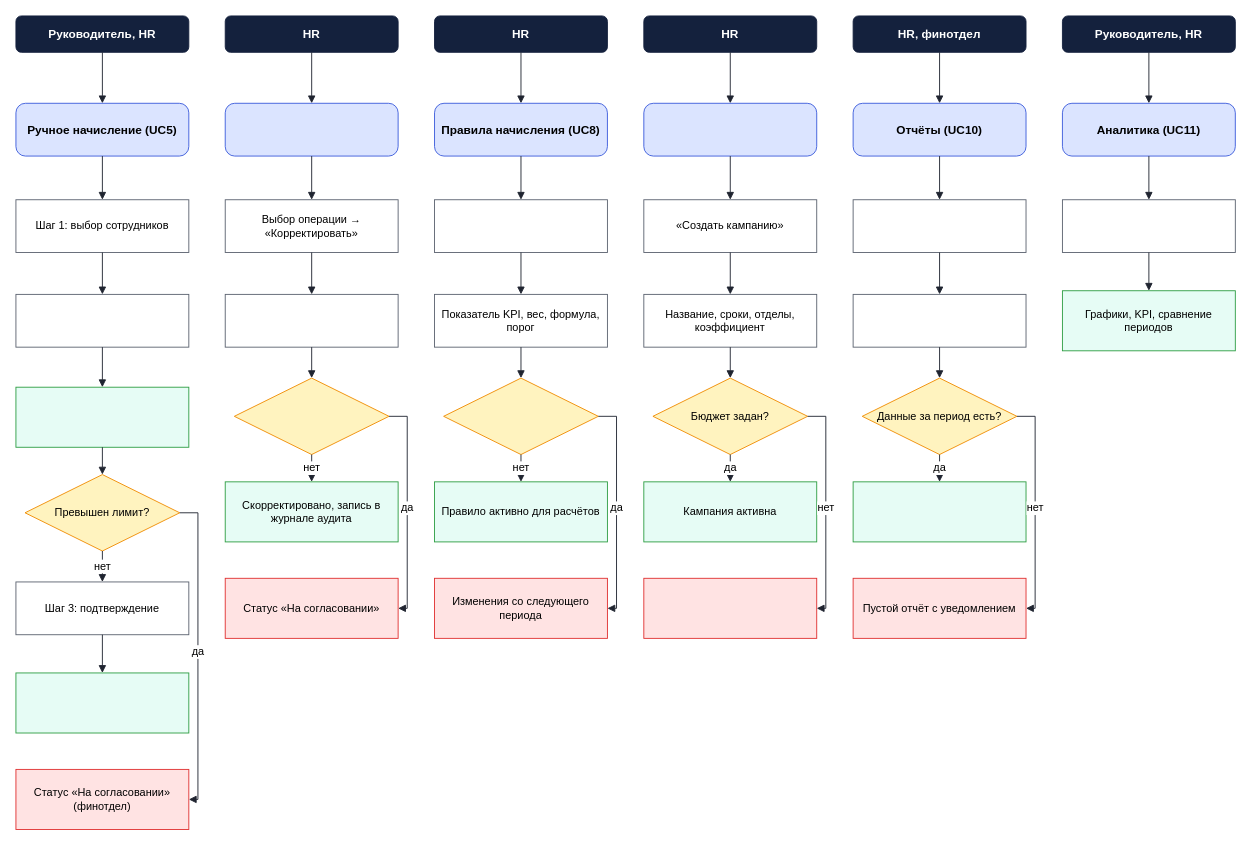
This 1251x845 diagram has some shape labels left out. The centre of each missing label's shape, as x and y in pixels:
"«Создать» / «Изменить»" belongs at (x=520, y=226).
"«Сформировать»" belongs at (x=939, y=320).
"Баланс станет < 0?" belongs at (x=311, y=416).
"Бонусные кампании (UC9)" belongs at (x=730, y=129).
"Выбор метрик, периода, отдела" belongs at (x=1148, y=226).
"Начислено, запись в истории, уведомление" belongs at (x=102, y=702).
"Новая сумма, причина" belongs at (x=311, y=320).
"Операции (UC7)" belongs at (x=311, y=129).
"Правило применялось в текущем периоде?" belongs at (x=520, y=416).
"Предпросмотр расчёта (UC6)" belongs at (x=102, y=416).
"Статус «Требуется утверждение»" belongs at (x=730, y=607).
"Таблица отчёта, экспорт Excel / PDF" belongs at (x=939, y=511).
"Тип отчёта и период" belongs at (x=939, y=226).
"Шаг 2: сумма, причина, основание" belongs at (x=102, y=320).
